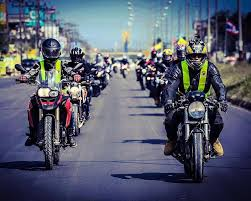helmet: (184, 38, 213, 72), (35, 38, 59, 63), (67, 45, 85, 63)
